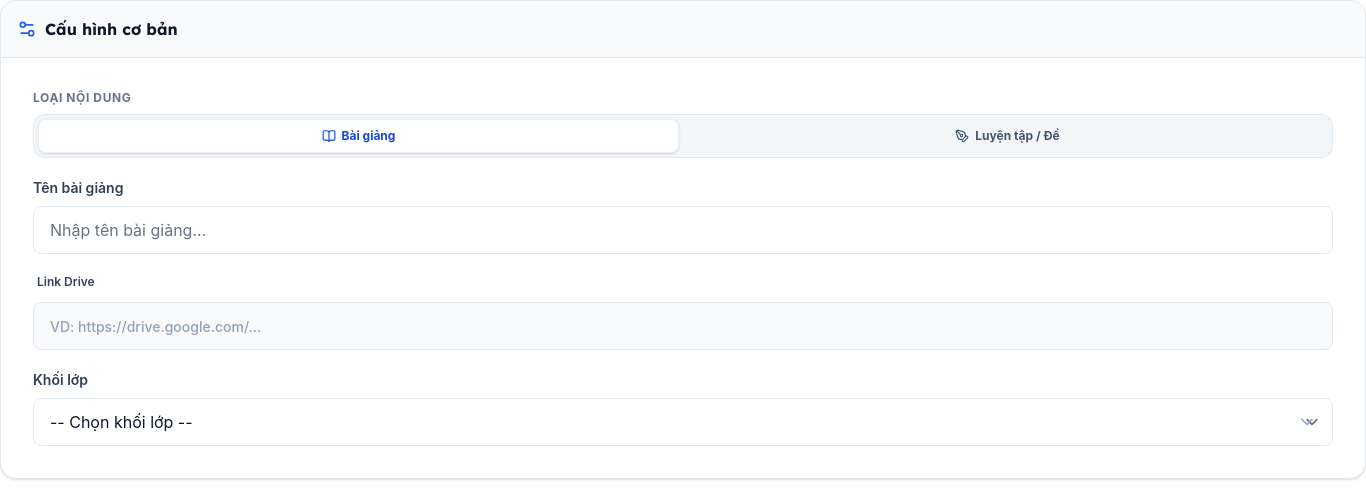
LectureBasicSettings › updates gg_link and displays external link when a valid URL is entered
Expected: the text "Mở Drive" is not shown
Type "https://drive.google.com/file/d/test1234" into the field with placeholder "VD: https://drive.google.com/..." at point(683, 326), box [33,302,1333,350]
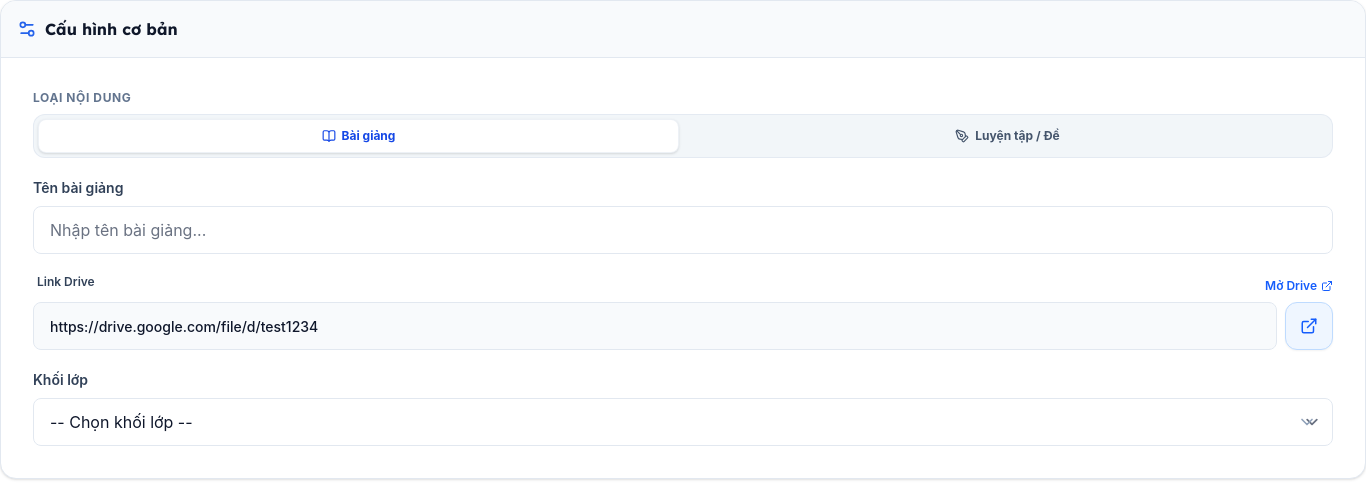
Expected: the text "Mở Drive" is shown, [1265,278,1317,294]
